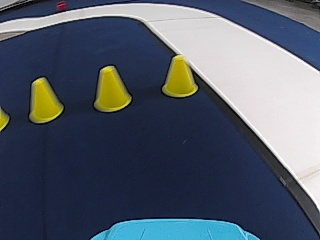cone: (93, 64, 132, 112), (28, 76, 64, 123), (161, 55, 197, 98)
